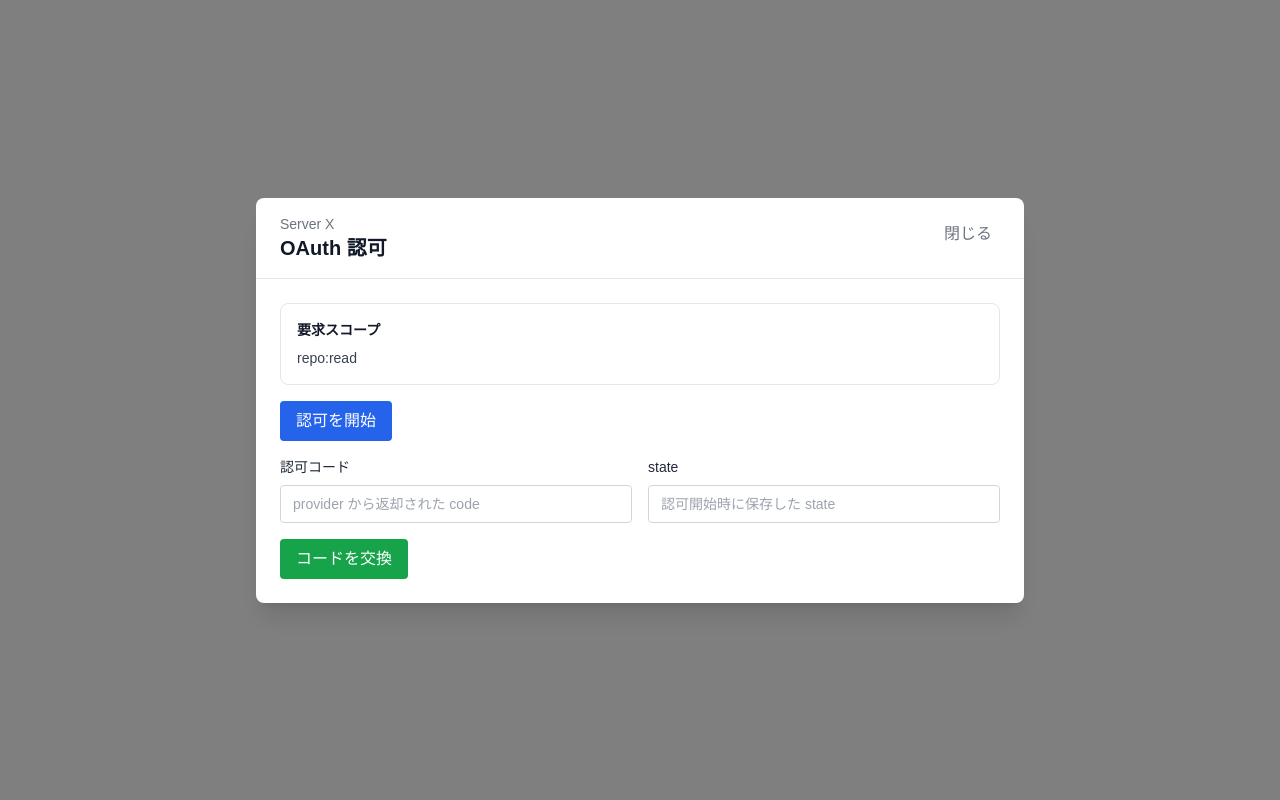
Test: OAuthModal › starts OAuth flow and displays auth URL/state
Click the button "認可を開始" at (336, 420), box [280,400,392,440]
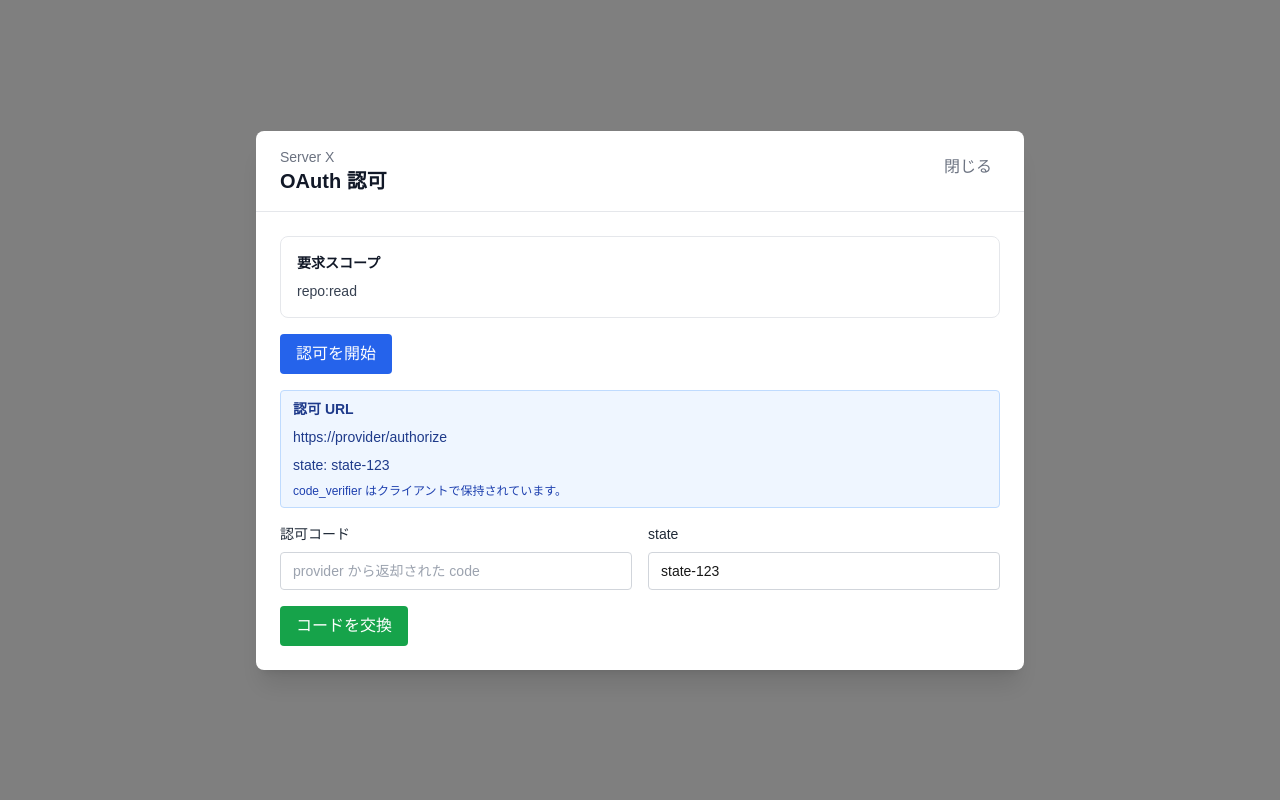
Check: the text "https://provider/authorize" is shown, box [293,428,447,444]
Check: the text "state: state-123" is shown, box [293,456,390,472]
